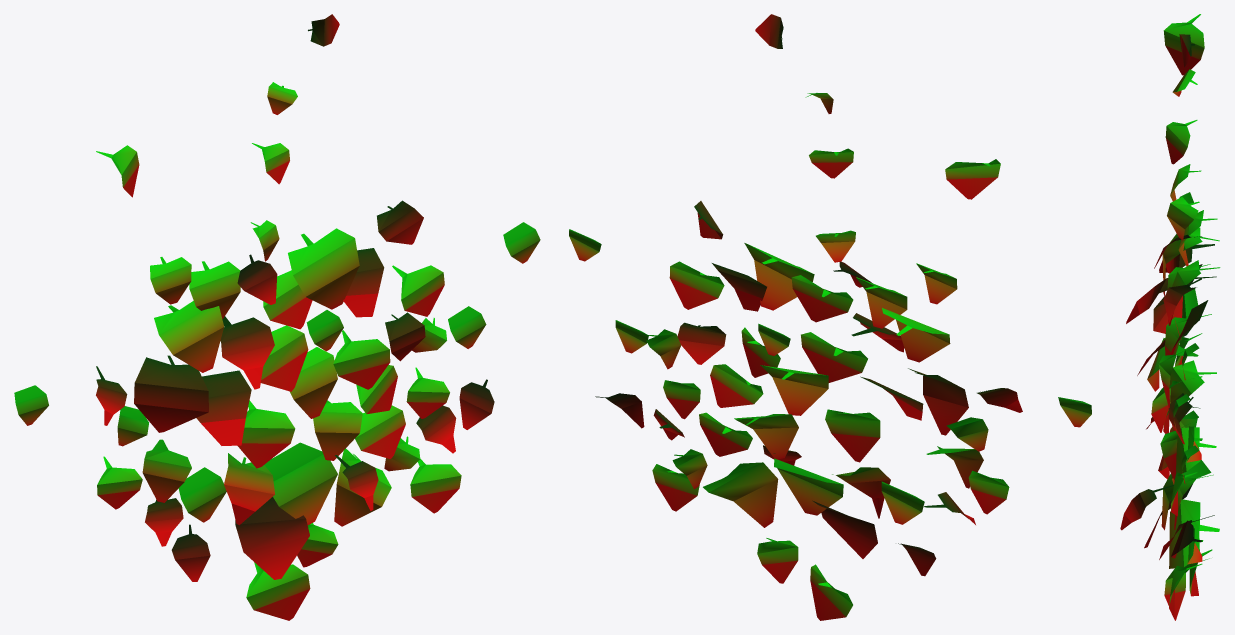
File: Lierre1_LOD0.fbx
3 views of the same model, side by side, from view 1: azimuth 30°, elevation 25°; view 2: azimuth 150°, elevation 25°; view 3: azimuth 270°, elevation 25° (orthographic). The views are drawn at different scales.
Visible parts, largest first — view 1: _229d_Var6_LOD1; view 2: _229d_Var6_LOD1; view 3: _229d_Var6_LOD1.
Boxes of the visible parts, left/top/right/bottom form: _229d_Var6_LOD1: left=14, top=14, right=540, bottom=620; _229d_Var6_LOD1: left=569, top=14, right=1091, bottom=620; _229d_Var6_LOD1: left=1120, top=14, right=1220, bottom=620.
Size of the model in its own units: 42.26 by 45.93 by 6.86.
